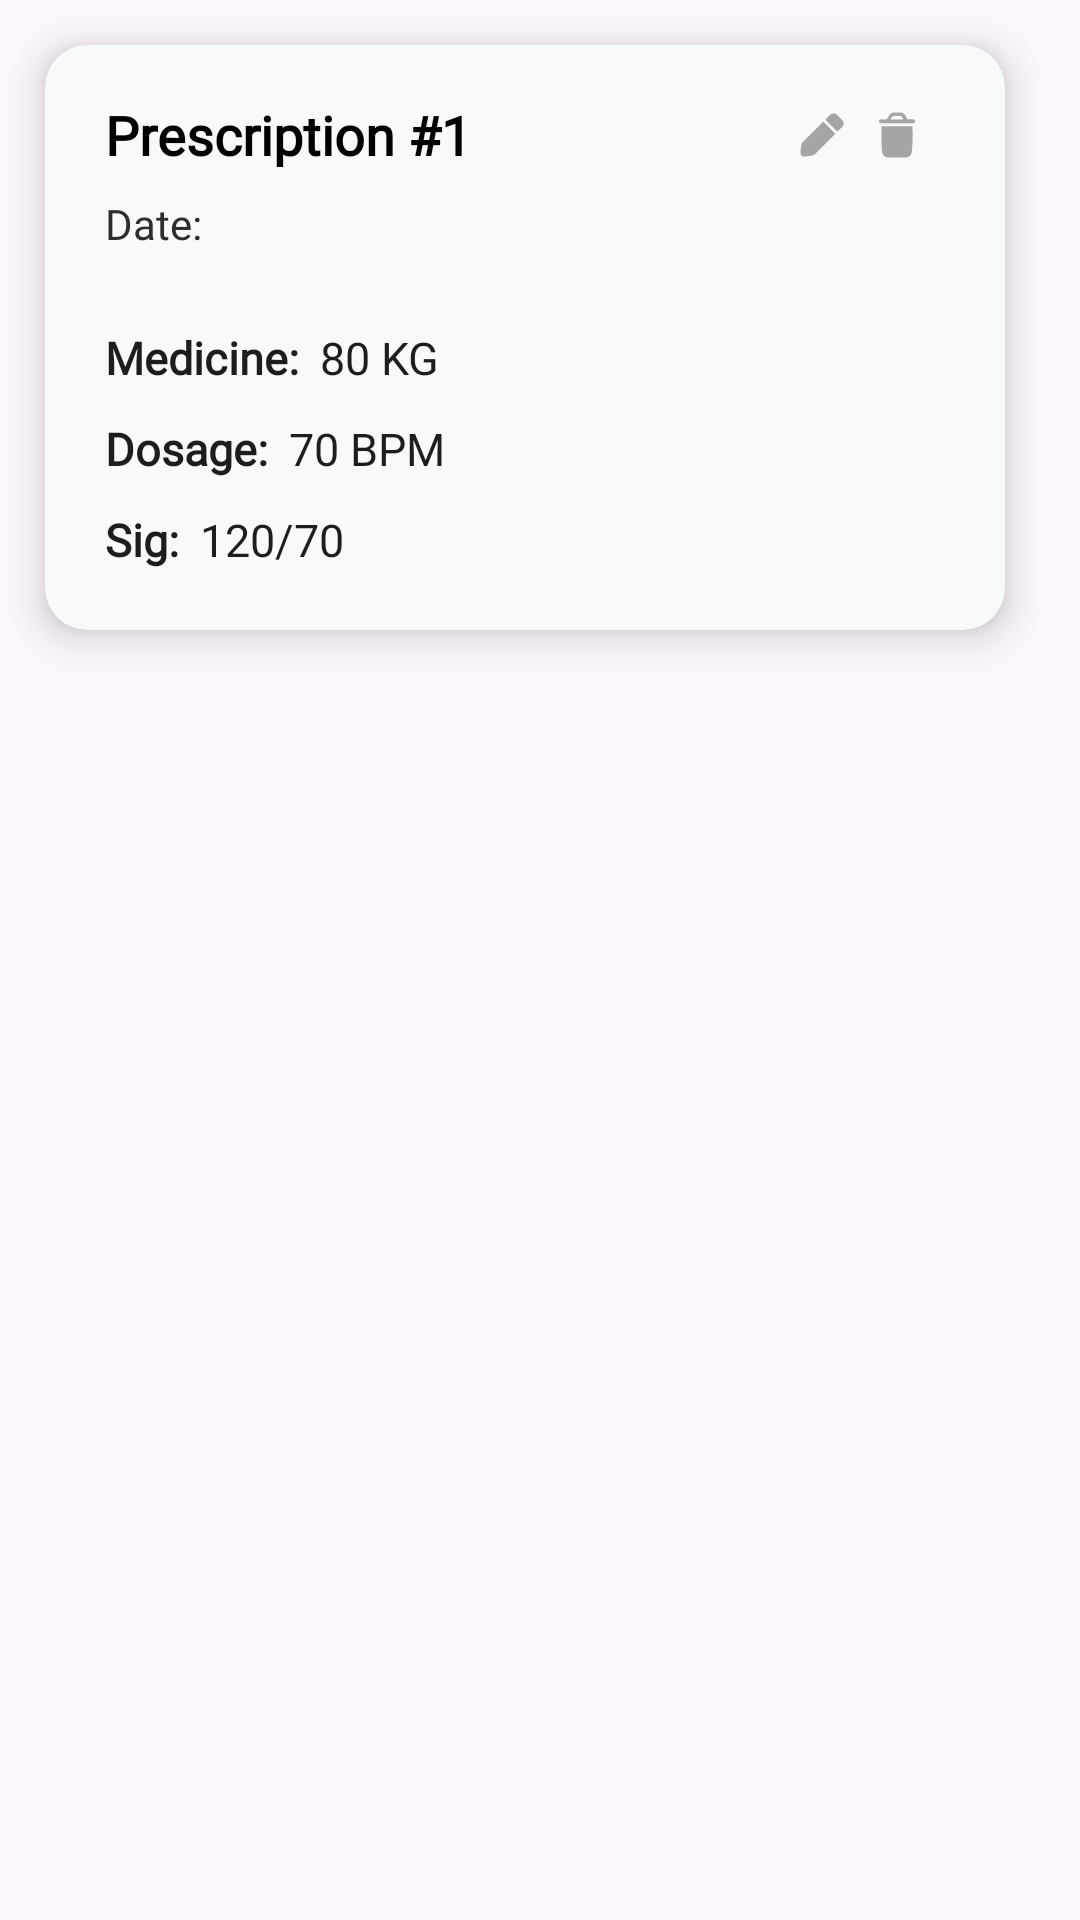

Where to tap for icons on this 1080w x 1920h app screen, as [x,y]:
medinfo delete: [897,135]
medinfo edit: [822,135]
